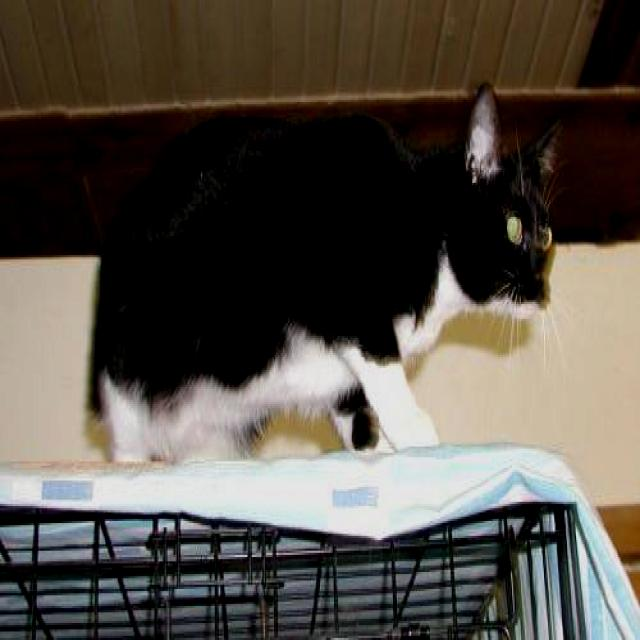Kucing: (67, 42, 604, 482)
